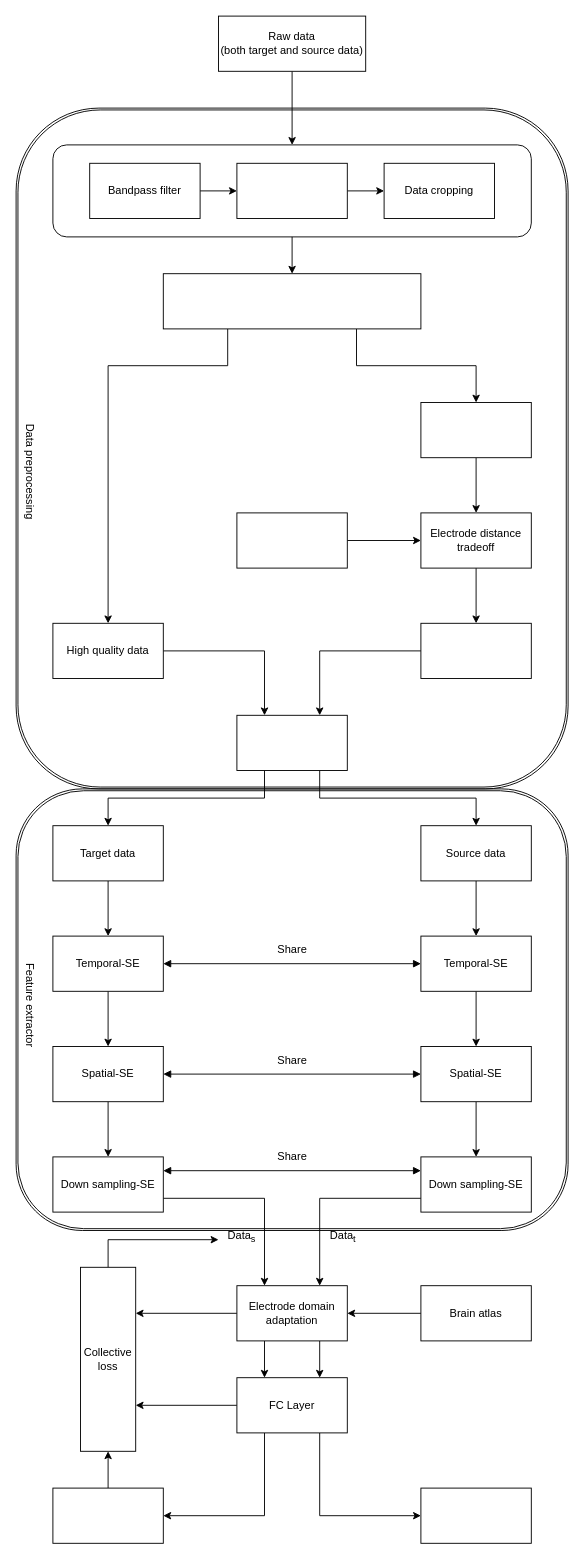
This 584x1559 diagram has some shape labels left out. The shapes that lost their labels are listed below. From the top down, each one's centre as x and y in pixels, then its label:
At pixel 291 190: "Artifact removal".
At pixel 291 301: "ApEn justifier".
At pixel 475 430: "Low quality data".
At pixel 291 540: "Electrode placement map".
At pixel 475 650: "Refined data".
At pixel 291 742: "Preprocessed data".
At pixel 107 1515: "Predicted label".
At pixel 475 1515: "Source label".
